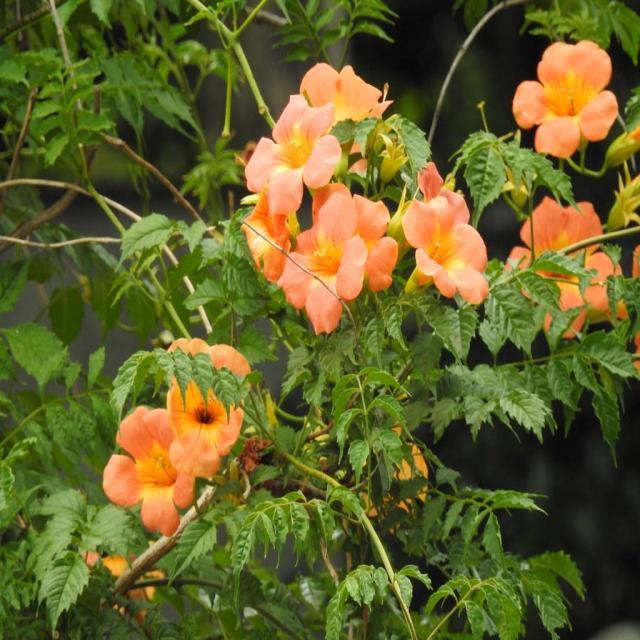organic waste: (105, 401, 222, 545), (150, 329, 274, 462), (506, 31, 623, 163), (234, 92, 346, 208), (260, 216, 368, 322), (404, 197, 494, 314)
